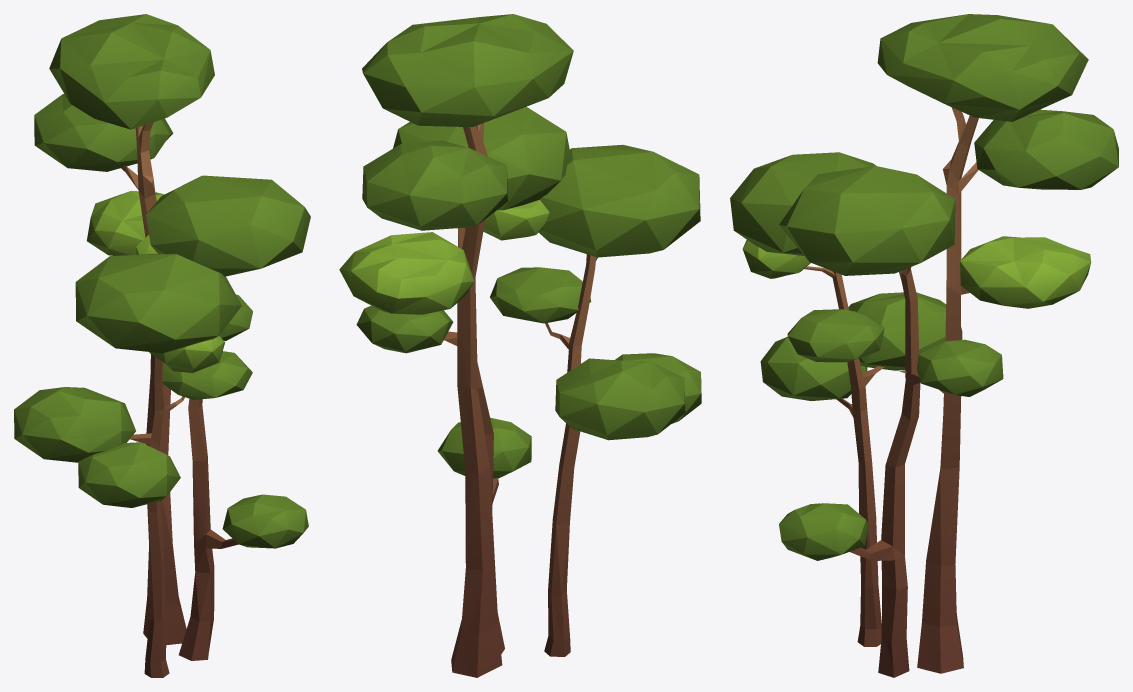
Rendered from ZLP_Plant_F_9.FBX.
3 views of the same model, side by side, from view 1: azimuth 30°, elevation 25°; view 2: azimuth 150°, elevation 25°; view 3: azimuth 270°, elevation 25° (orthographic). The views are drawn at different scales.
Visible parts, largest first — view 1: ZLP_Plant_F_9; view 2: ZLP_Plant_F_9; view 3: ZLP_Plant_F_9.
Part boxes in pixels (x1=…): ZLP_Plant_F_9: x1=14, y1=14, x2=310, y2=677; ZLP_Plant_F_9: x1=339, y1=14, x2=701, y2=677; ZLP_Plant_F_9: x1=730, y1=14, x2=1118, y2=677.
Size of the model in its own units: 280 by 591 by 328.
